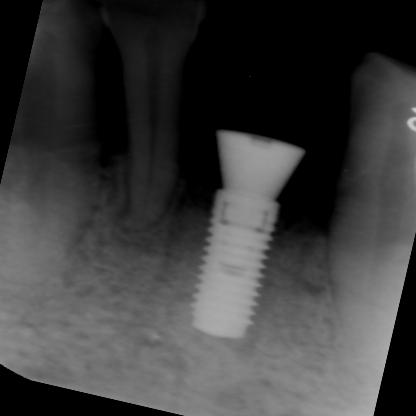ITI: (166, 177, 304, 349)
